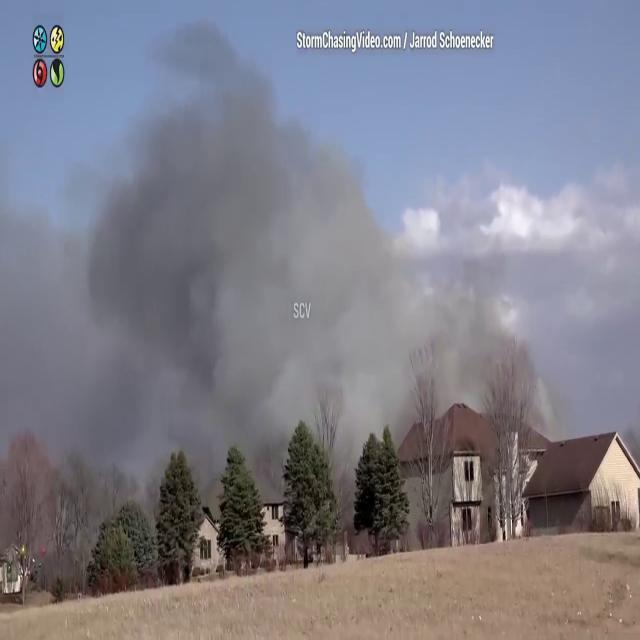Smoke: (80, 6, 390, 486), (386, 207, 556, 445)
